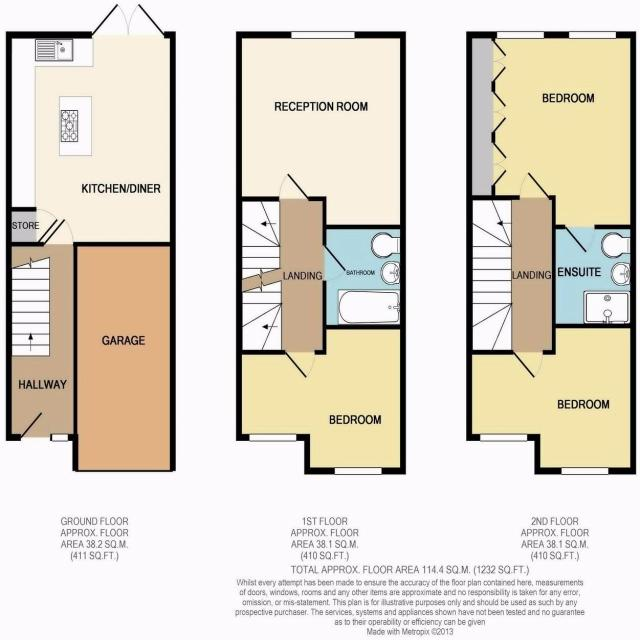DOOR: (322, 244, 348, 282), (19, 411, 51, 441), (512, 350, 544, 379), (518, 171, 550, 200), (564, 225, 596, 254), (284, 350, 316, 379), (43, 218, 75, 247), (278, 173, 310, 201)
DOUBLE DOOR: (89, 2, 169, 40)
ROOM: (5, 2, 176, 247), (466, 31, 637, 254), (236, 31, 406, 230), (466, 323, 636, 475), (236, 324, 407, 475)
WINDOW: (290, 31, 355, 39), (560, 466, 609, 476), (334, 466, 382, 476), (479, 433, 528, 442), (248, 433, 297, 442), (496, 31, 545, 39), (568, 31, 617, 39), (52, 433, 68, 442)
